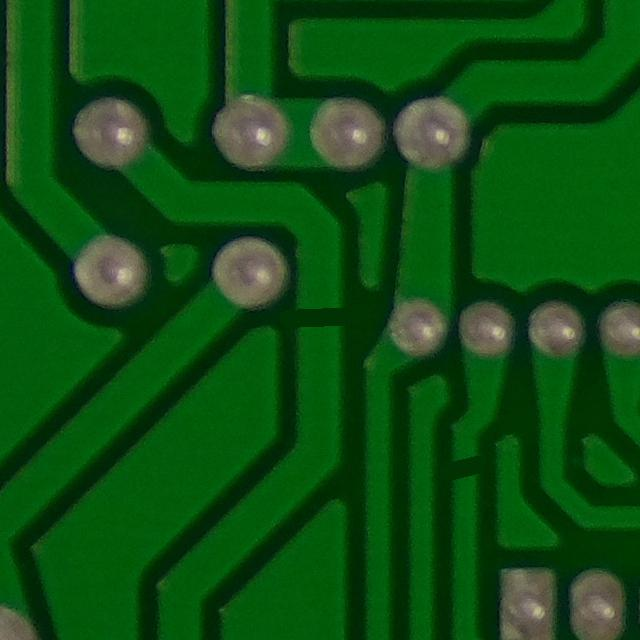open_circuit: (282, 294, 358, 347)
